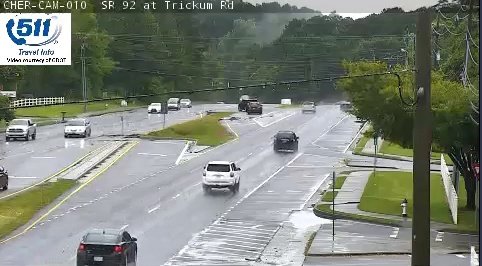car: (76, 230, 137, 266), (202, 161, 239, 187), (273, 131, 298, 152)
